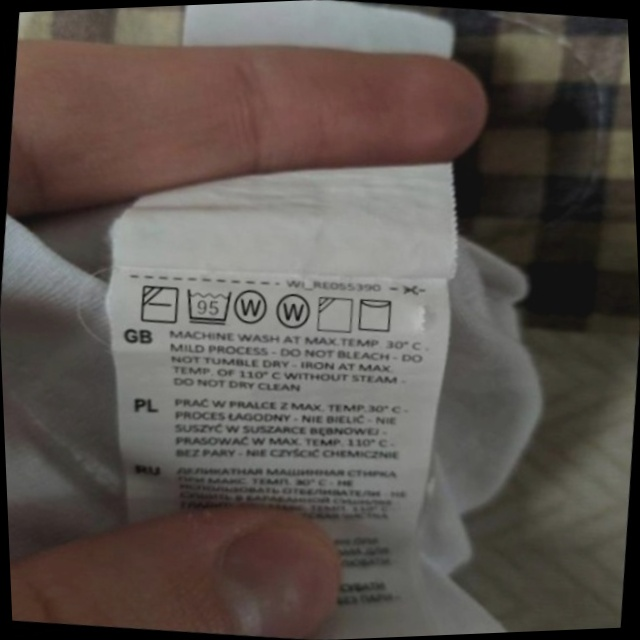95C: (179, 280, 239, 332)
dry_flat_in_shade: (133, 277, 185, 331)
line_dry: (351, 290, 401, 339)
shade_dry: (310, 289, 360, 340)
wet_clean: (229, 280, 276, 331), (270, 287, 317, 337)
